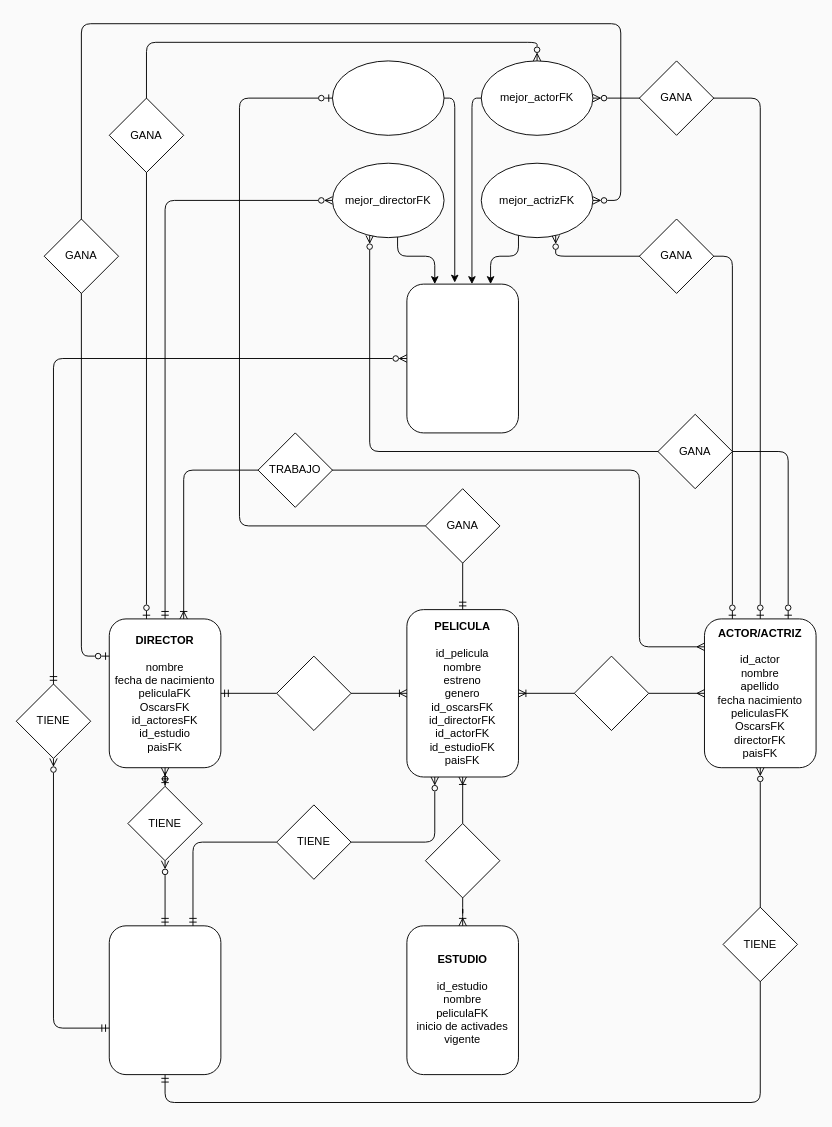
This 832x1127 diagram has some shape labels left out. Here are the shapes that lost their labels. From the top down, the centre of each, then its label:
point (388, 97): mejor_peliculaFK
point (462, 358): Oscars
point (313, 693): DIRIGIO
point (611, 693): ACTUA
point (462, 860): PRODUCE
point (164, 1000): PAIS peliculaFK actor/actrizFK directorFK oscarFK
